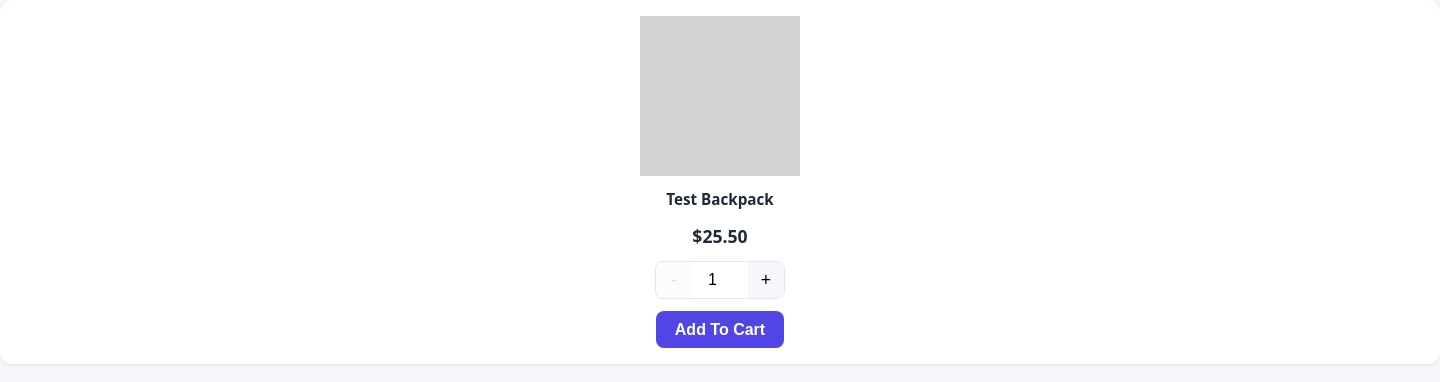
ProductCard › disables Add To Cart when the field is empty
Clear the number field named "Quantity": (720, 280) [692,262,748,298]
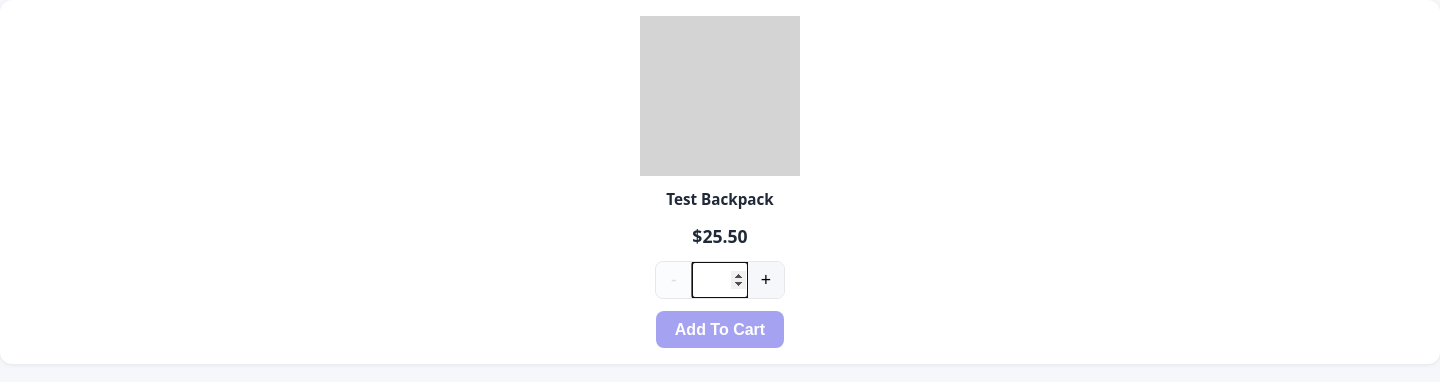
Check: the button "Add To Cart" is disabled, box [656,311,784,348]
